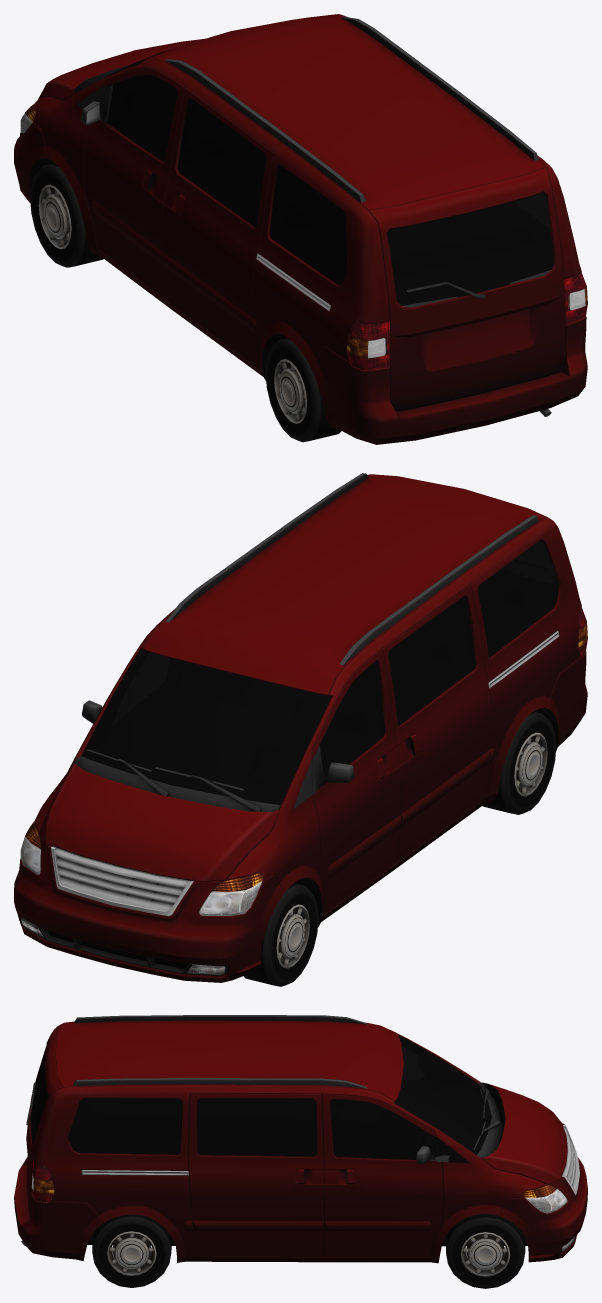
File: pack_3.glb
The picture shows the model from 3 angles, top to bottom: view 1: azimuth 30°, elevation 25°; view 2: azimuth 150°, elevation 25°; view 3: azimuth 270°, elevation 25°; orthographic projection. The views are drawn at different scales.
Visible parts, largest first — view 1: pack_3; view 2: pack_3; view 3: pack_3.
Part boxes in pixels (<box>): pack_3: <box>14,14,587,444</box>; pack_3: <box>14,473,587,986</box>; pack_3: <box>14,1015,587,1288</box>.
Bounding box in the file's own units: 1.78 × 1.68 × 4.4.
4 materials, 3 textured.
